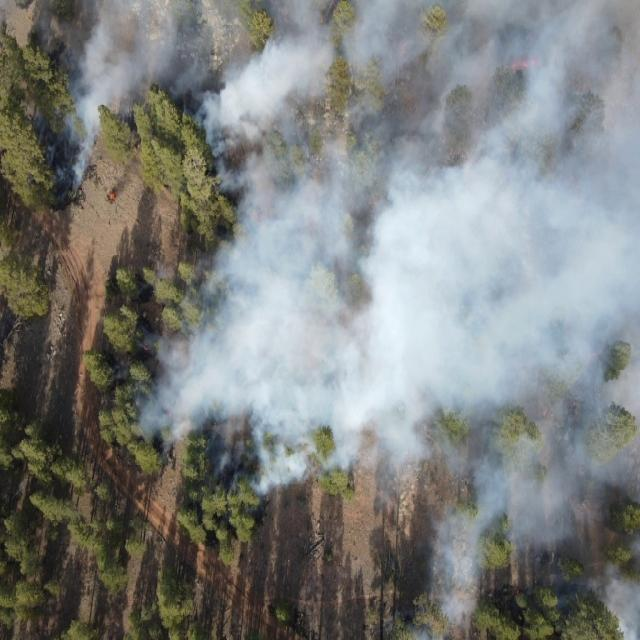fire: (508, 55, 540, 73), (394, 34, 411, 61), (106, 192, 118, 202), (514, 588, 522, 596)
smoke: (189, 112, 640, 496), (25, 1, 640, 114), (420, 496, 639, 600), (131, 256, 188, 460), (29, 116, 102, 192), (380, 601, 479, 640), (604, 599, 640, 640)
